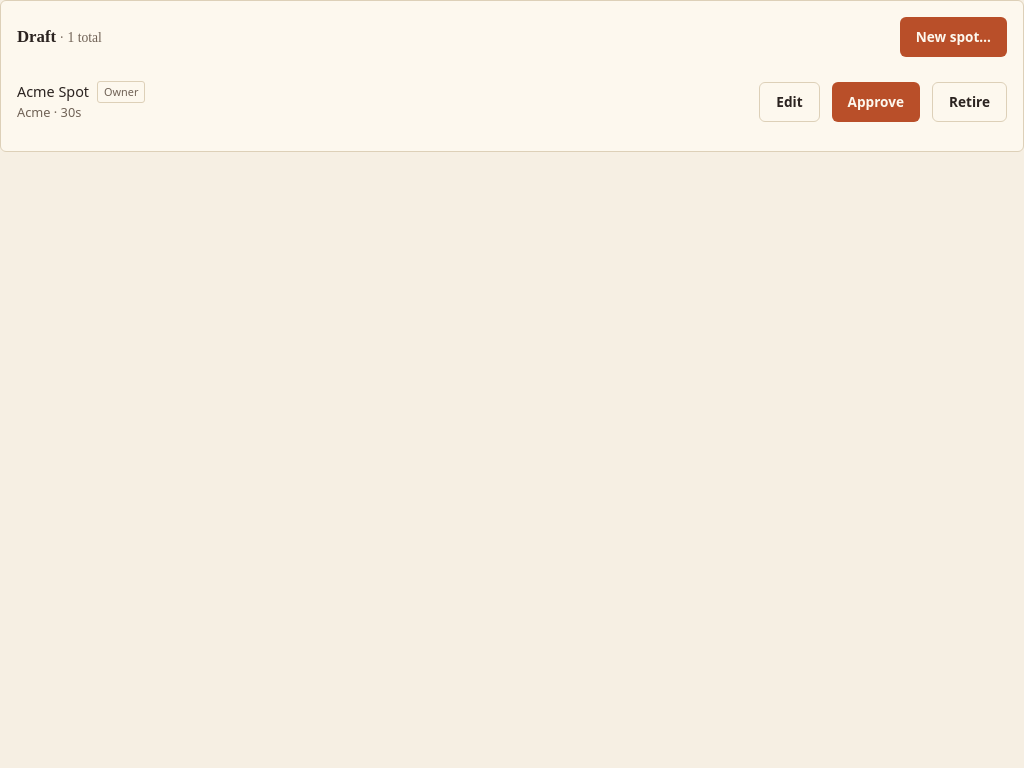
Test: Feature: Approve tells me when the station will render it › Scenario: the row toast names the window › toasts 'Approved. The station will render it within 10 minutes.' — AC4
Click the button "Approve". click: {"x": 876, "y": 102}
box: [832,82,920,122]
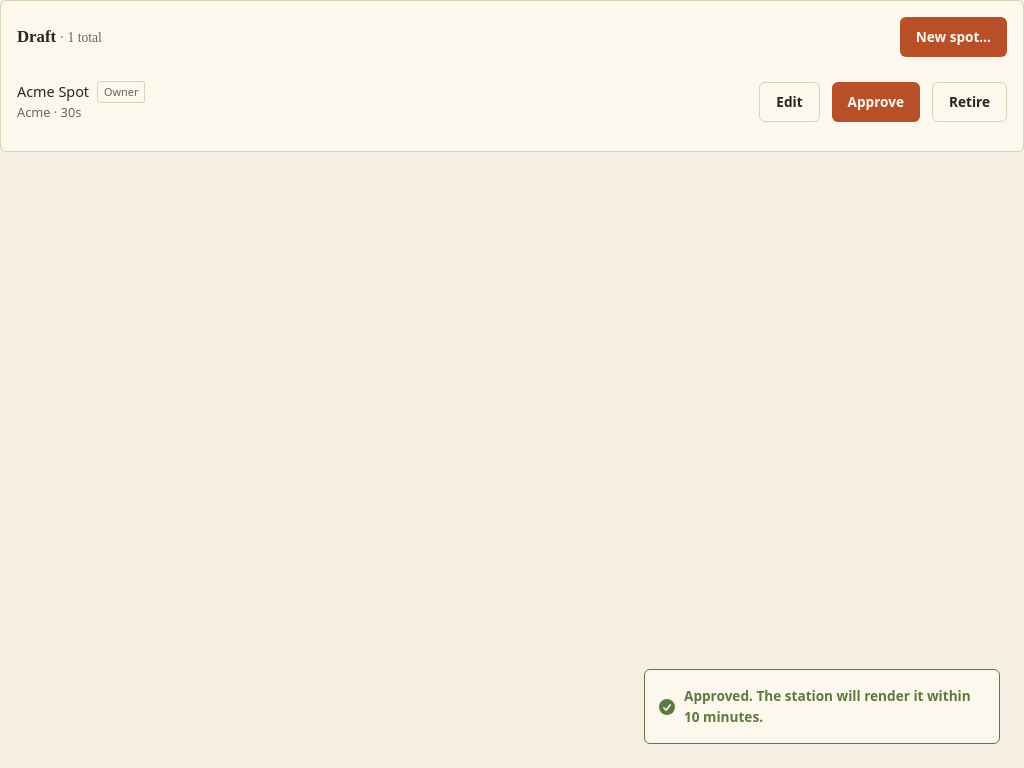
Result: the text "Approved. The station will render it within 10 minutes." is shown at [684,686,983,727]
